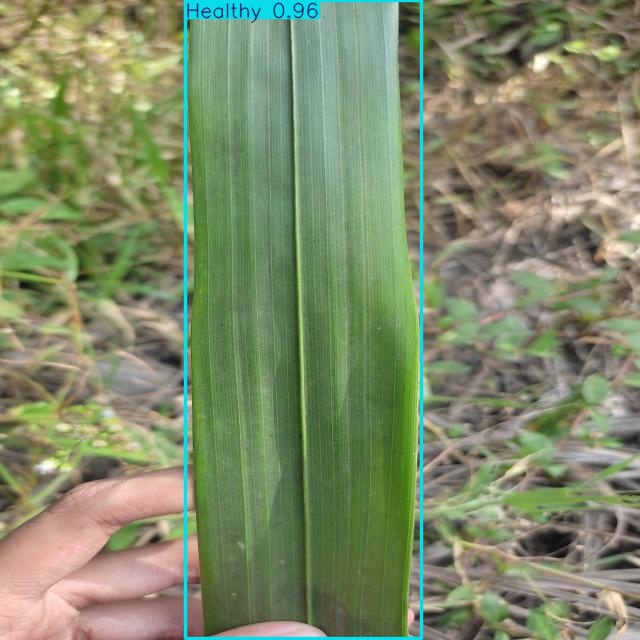Healthy: (185, 0, 422, 639)
